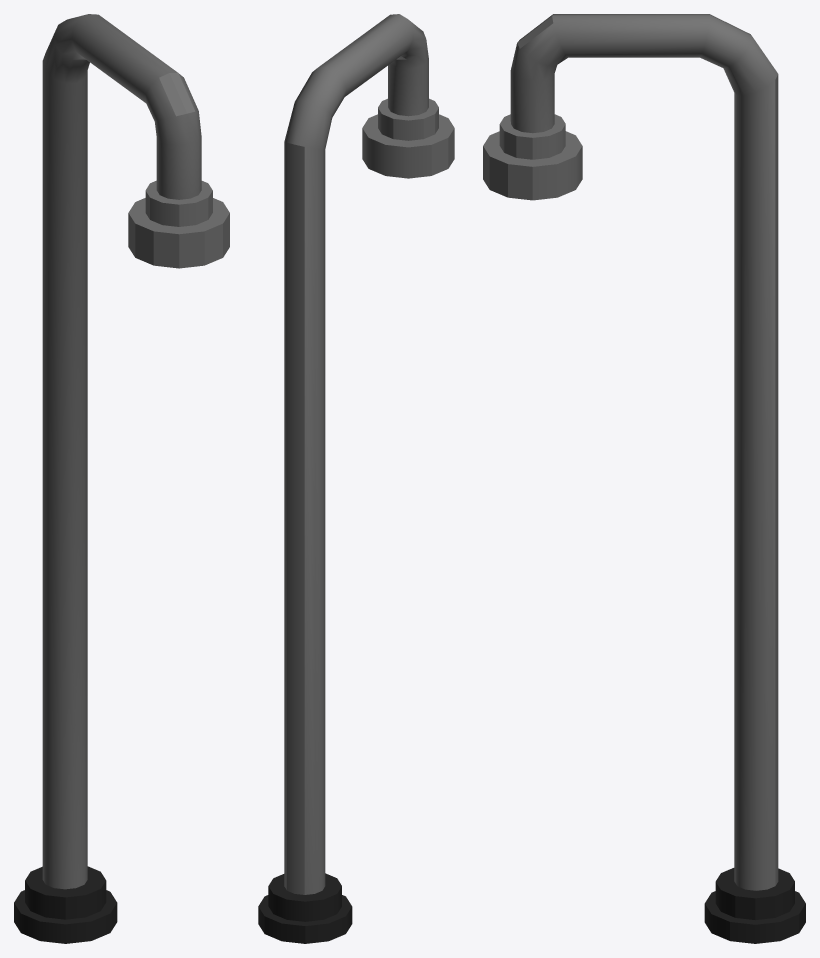
Rendered from streetlamp.FBX.
The picture shows the model from 3 angles, left to right: view 1: azimuth 30°, elevation 25°; view 2: azimuth 150°, elevation 25°; view 3: azimuth 270°, elevation 25°; orthographic projection. The views are drawn at different scales.
Visible parts, largest first — view 1: Line001, Cylinder001; view 2: Line001, Cylinder001; view 3: Line001, Cylinder001.
Part boxes in pixels (<box>): Line001: <box>42,14,229,889</box>; Cylinder001: <box>14,866,117,943</box>; Line001: <box>284,14,454,894</box>; Cylinder001: <box>258,873,352,943</box>; Line001: <box>483,14,778,890</box>; Cylinder001: <box>704,868,805,943</box>.
Bounding box in the file's own units: 20.12 × 199 × 64.2.
